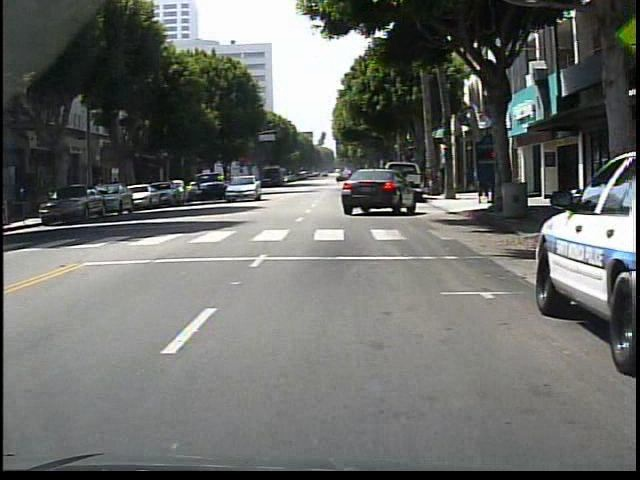person: (471, 158, 493, 207)
